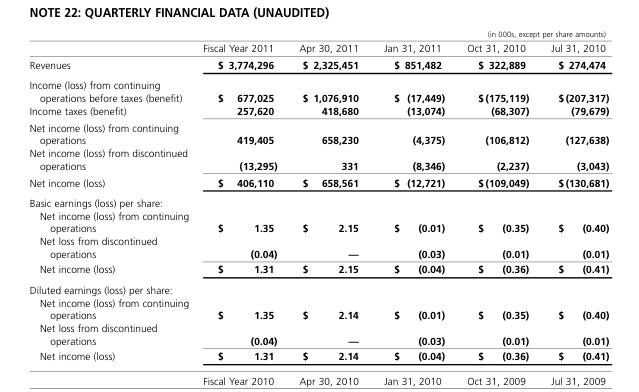table: (28, 29, 608, 361)
table column: (28, 29, 195, 361), (195, 29, 287, 361), (370, 29, 455, 361), (455, 29, 539, 361), (287, 29, 370, 361), (539, 29, 608, 361)
table column header: (28, 29, 608, 56)
table projected row header: (28, 192, 608, 208), (28, 279, 608, 295)
table row: (28, 74, 608, 103), (28, 118, 608, 146), (28, 146, 608, 173), (28, 234, 608, 261), (28, 208, 608, 234), (28, 295, 608, 321), (28, 321, 608, 347), (28, 173, 608, 192), (28, 56, 608, 74), (28, 261, 608, 279), (28, 39, 608, 56), (28, 192, 608, 208), (28, 279, 608, 295), (28, 103, 608, 118), (28, 347, 608, 361), (28, 29, 608, 39)
table spanning cell: (195, 29, 287, 56), (370, 29, 608, 39), (287, 29, 370, 56)
